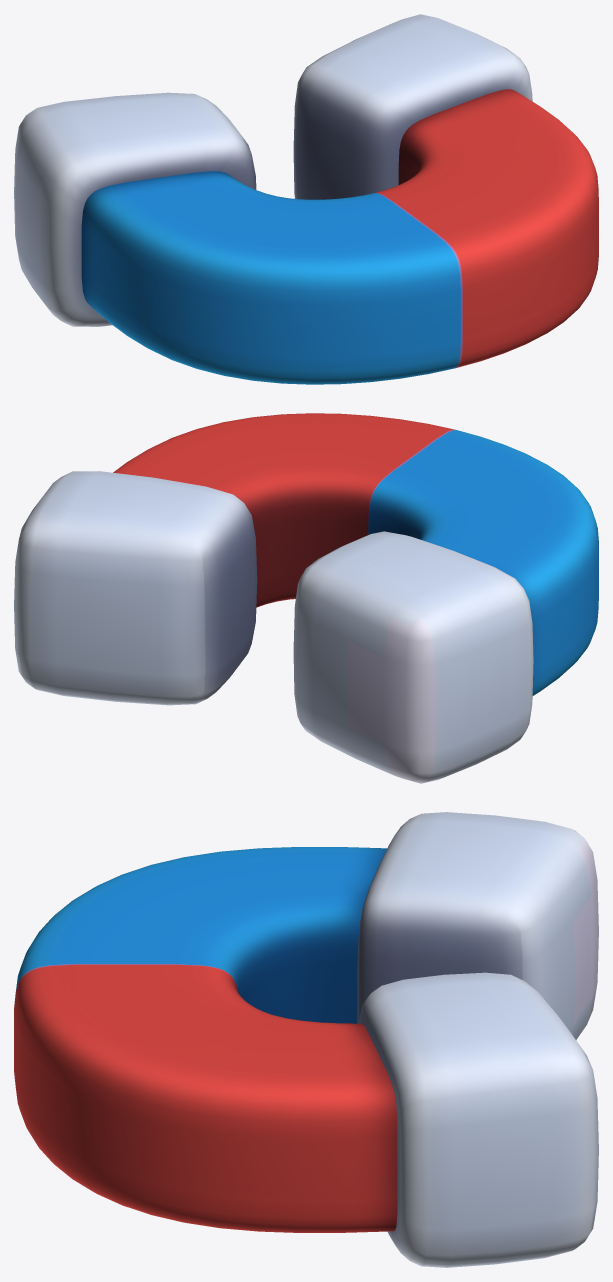
File: Magnet.fbx
The picture shows the model from 3 angles, top to bottom: view 1: azimuth 30°, elevation 25°; view 2: azimuth 150°, elevation 25°; view 3: azimuth 270°, elevation 25°; orthographic projection. The views are drawn at different scales.
Parts seen in each view (by area): view 1: Magnet; view 2: Magnet; view 3: Magnet.
Boxes of the visible parts, bbox=[...] form: Magnet: bbox=[14, 14, 598, 384]; Magnet: bbox=[14, 413, 598, 783]; Magnet: bbox=[14, 812, 598, 1267].
Size of the model in its own units: 1.23 by 0.4519 by 1.08.
Materials: 1 (1 with a texture image).
